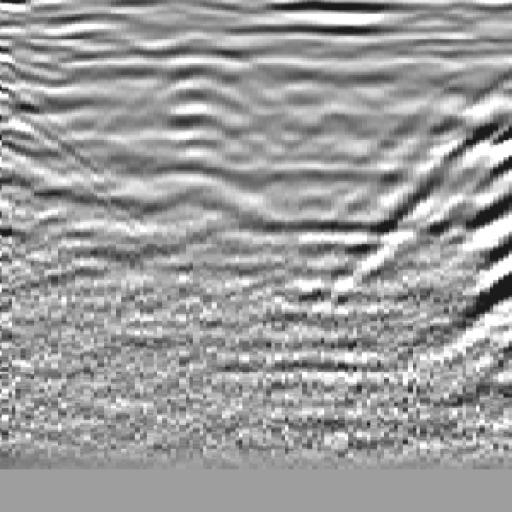metalic: (131, 35, 275, 257)
nonmetalic: (382, 45, 512, 321)
